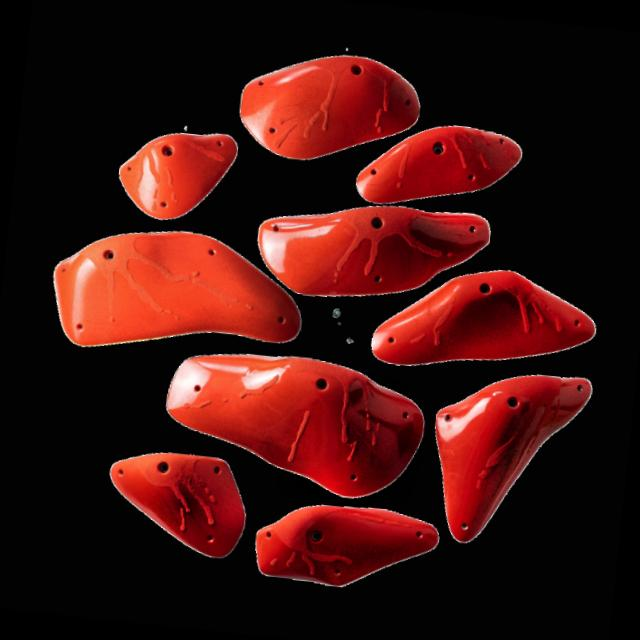Hold: (142, 342, 428, 506), (416, 363, 616, 563), (56, 220, 300, 350), (380, 262, 592, 391), (250, 196, 489, 302), (242, 42, 424, 170), (99, 440, 254, 561), (246, 499, 434, 598), (351, 115, 536, 214), (111, 120, 242, 223)
